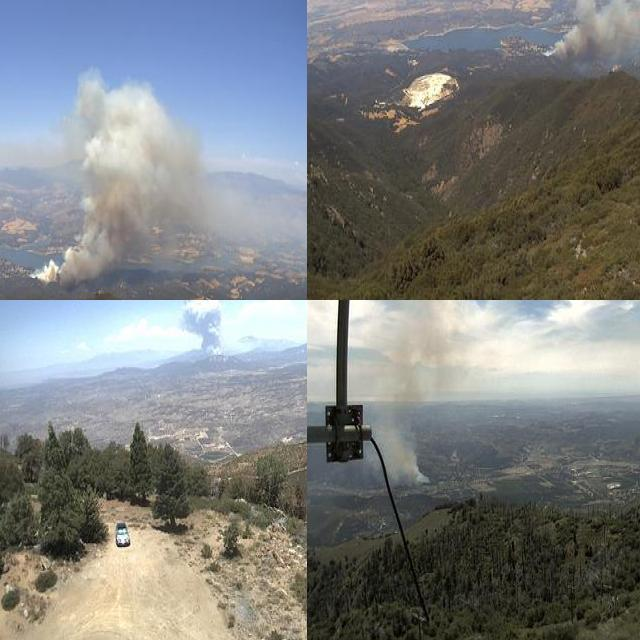smoke: (27, 62, 214, 294), (359, 300, 442, 488), (171, 300, 228, 352)
